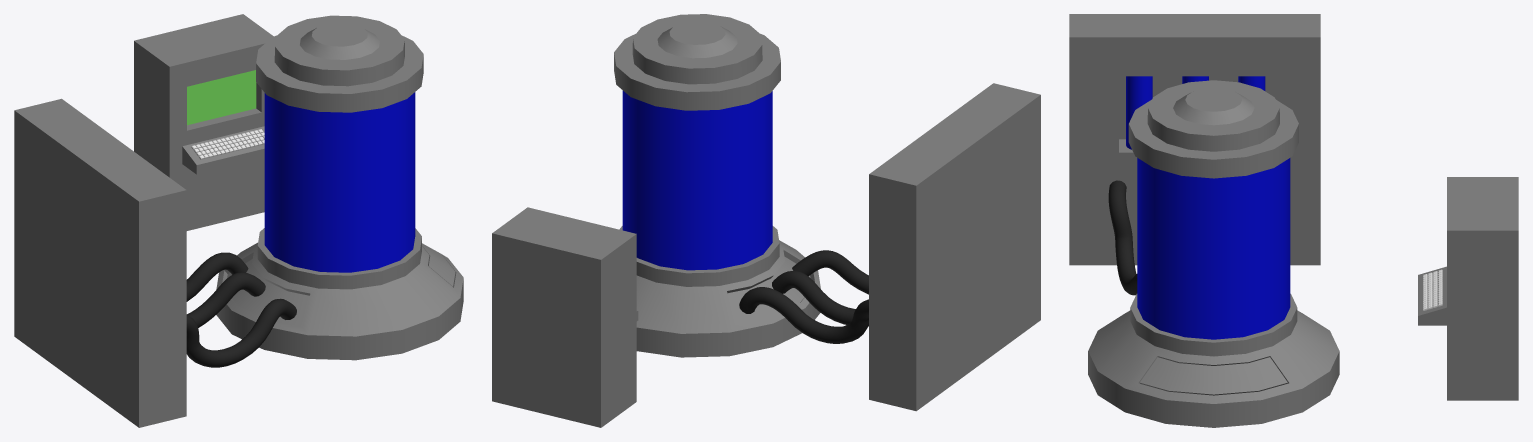
File: blue.glb
3 views of the same model, side by side, from view 1: azimuth 30°, elevation 25°; view 2: azimuth 150°, elevation 25°; view 3: azimuth 270°, elevation 25° (orthographic).
Visible parts, largest first — view 1: Circle, Cube.002, Cube, BezierCurve, Cube.001; view 2: Circle, Cube.002, Cube, BezierCurve; view 3: Circle, Cube.002, Cube, BezierCurve, Circle.002, Cube.001.
Boxes of the visible parts, x1=… form: Circle: x1=216, y1=15, x2=463, y2=360; Cube.002: x1=14, y1=98, x2=186, y2=427; Cube: x1=134, y1=14, x2=273, y2=230; BezierCurve: x1=186, y1=252, x2=296, y2=367; Cube.001: x1=191, y1=129, x2=264, y2=159; Circle: x1=614, y1=14, x2=820, y2=357; Cube.002: x1=869, y1=83, x2=1040, y2=411; Cube: x1=492, y1=207, x2=638, y2=427; BezierCurve: x1=739, y1=250, x2=868, y2=343; Circle: x1=1088, y1=80, x2=1339, y2=427; Cube.002: x1=1069, y1=14, x2=1320, y2=265; Cube: x1=1418, y1=177, x2=1518, y2=400; BezierCurve: x1=1108, y1=180, x2=1137, y2=295; Circle.002: x1=1126, y1=76, x2=1265, y2=149; Cube.001: x1=1423, y1=269, x2=1442, y2=310.
Bounding box in the file's own units: 4.31 × 2.97 × 4.38.
